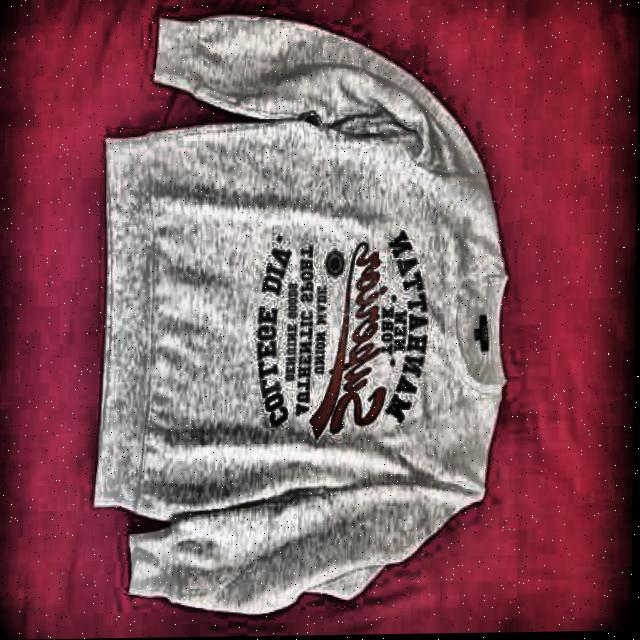clothes: (93, 7, 512, 621)
